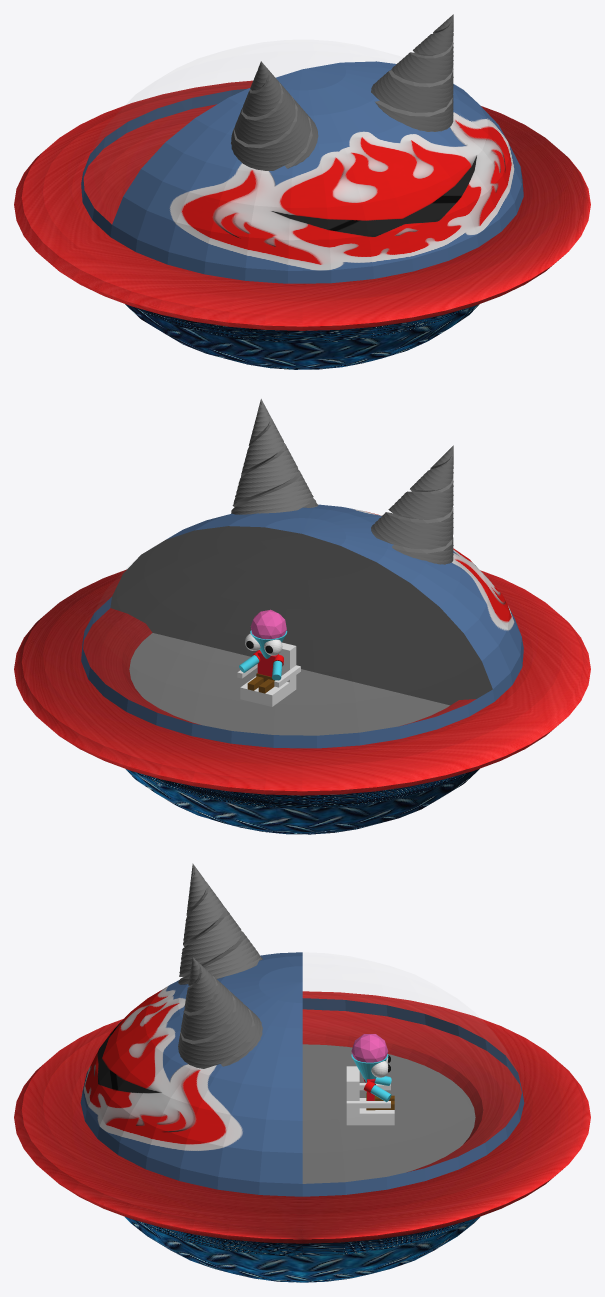
The model's file is ovni.fbx.
The picture shows the model from 3 angles, top to bottom: view 1: azimuth 30°, elevation 25°; view 2: azimuth 150°, elevation 25°; view 3: azimuth 270°, elevation 25°; orthographic projection.
Parts seen in each view (by area): view 1: Sphere, Torus, Taladro2, Taladro1; view 2: Sphere, Torus, Taladro1, Taladro2, Icosphere, Cube.002; view 3: Sphere, Torus, Taladro2, Taladro1, Icosphere, Silla, Cube.002.
Boxes of the visible parts, left/top/right/bottom form: Sphere: left=81, top=61, right=523, bottom=369; Torus: left=14, top=80, right=590, bottom=330; Taladro2: left=371, top=14, right=453, bottom=131; Taladro1: left=231, top=61, right=318, bottom=170; Sphere: left=81, top=504, right=523, bottom=834; Torus: left=14, top=569, right=590, bottom=795; Taladro1: left=371, top=445, right=453, bottom=564; Taladro2: left=231, top=399, right=318, bottom=514; Icosphere: left=250, top=609, right=286, bottom=639; Cube.002: left=240, top=676, right=289, bottom=706; Sphere: left=80, top=952, right=524, bottom=1282; Torus: left=14, top=991, right=590, bottom=1243; Taladro2: left=178, top=957, right=262, bottom=1068; Taladro1: left=178, top=863, right=262, bottom=984; Icosphere: left=351, top=1034, right=388, bottom=1062; Silla: left=346, top=1066, right=359, bottom=1125; Cube.002: left=359, top=1098, right=394, bottom=1125.
Size of the model in its own units: 625 by 410 by 625.
25 materials, 3 textured.
